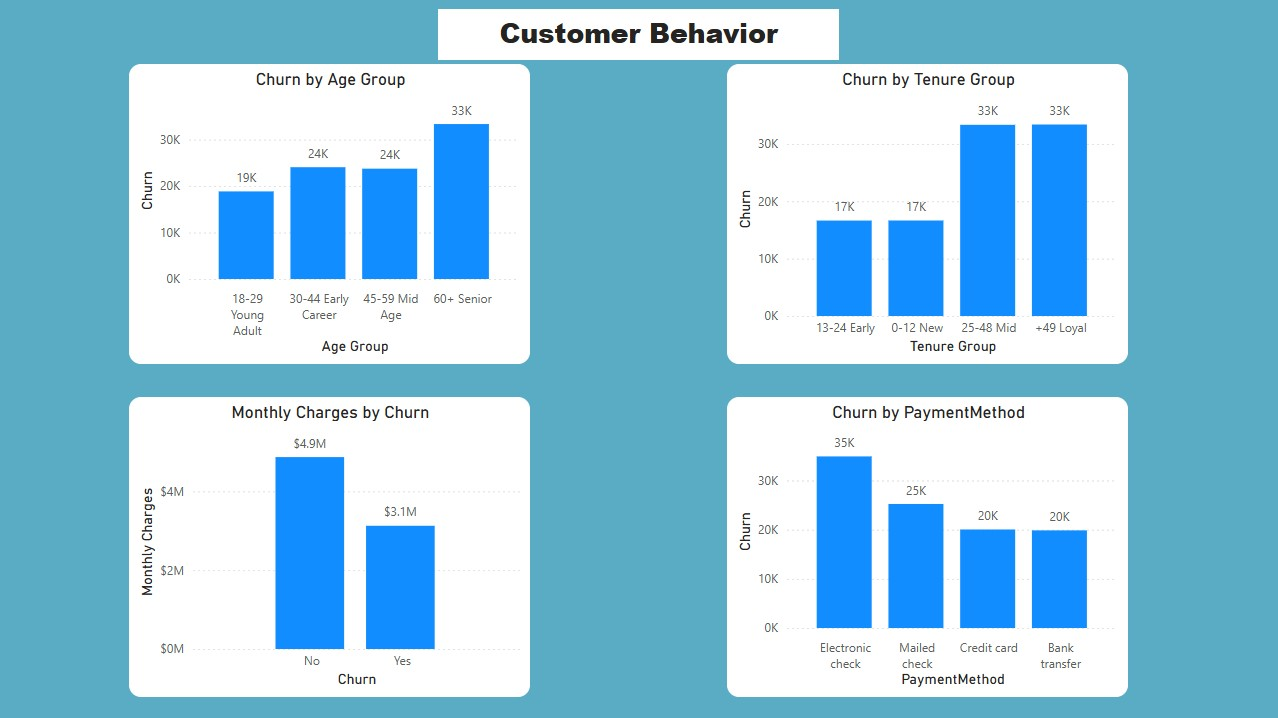

What the dashboard file says about the page in this screenshot:
{"tool":"powerbi","page":{"name":"Customer Behavior","canvas":[1280,720],"ordinal":1},"visuals":[{"type":"clusteredColumnChart","fields":{"Category":["telco.Age Group"],"Y":["CountNonNull(telco.Churn)"]},"box":[130,64,401,300],"z":0},{"type":"clusteredColumnChart","fields":{"Category":["telco.Tenure Group"],"Y":["CountNonNull(telco.Churn)"]},"box":[728,64,401,300],"z":1000},{"type":"columnChart","fields":{"Category":["telco.Churn"],"Y":["Sum(telco. MonthlyCharges )"]},"box":[130,397,401,300],"z":2000},{"type":"clusteredColumnChart","fields":{"Category":["telco.PaymentMethod"],"Y":["CountNonNull(telco.Churn)"]},"box":[728,397,401,300],"z":3000},{"type":"textbox","box":[439,9,401,51],"z":4000}]}

Visuals, with their boxes in screenshot pixels (x1, y1, x2, y2), scaled from the page's 1280x720 canvas onto the 1278x718 screenshot:
clusteredColumnChart - telco.Age Group x CountNonNull(telco.Churn): (130, 64, 530, 363)
clusteredColumnChart - telco.Tenure Group x CountNonNull(telco.Churn): (727, 64, 1127, 363)
columnChart - telco.Churn x Sum(telco. MonthlyCharges ): (130, 396, 530, 695)
clusteredColumnChart - telco.PaymentMethod x CountNonNull(telco.Churn): (727, 396, 1127, 695)
textbox: (438, 9, 839, 60)
